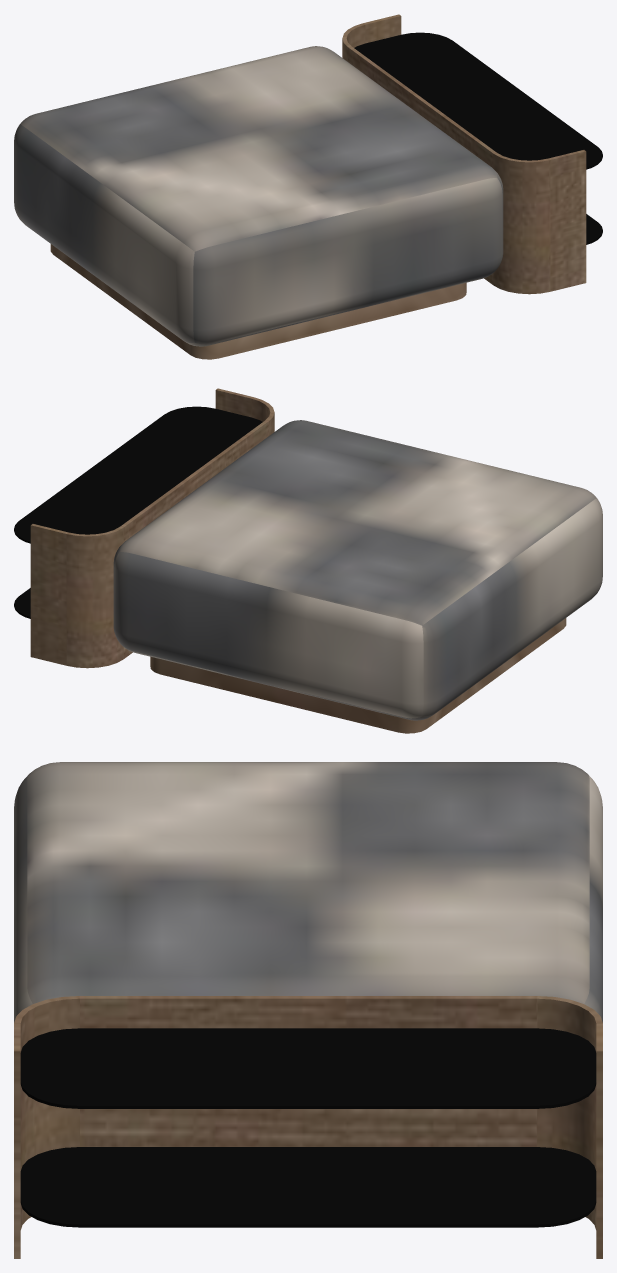
Rendered from Sofa Three.fbx.
The picture shows the model from 3 angles, top to bottom: view 1: azimuth 30°, elevation 25°; view 2: azimuth 150°, elevation 25°; view 3: azimuth 270°, elevation 25°; orthographic projection. The views are drawn at different scales.
Visible parts, largest first — view 1: Plane.005, Plane.054, Plane.055; view 2: Plane.005, Plane.054, Plane.055; view 3: Plane.005, Plane.055, Plane.054.
Boxes of the visible parts, left/top/right/bottom form: Plane.005: left=14, top=46, right=503, bottom=359; Plane.054: left=342, top=14, right=586, bottom=294; Plane.055: left=354, top=32, right=602, bottom=244; Plane.005: left=113, top=420, right=602, bottom=733; Plane.054: left=30, top=388, right=274, bottom=668; Plane.055: left=14, top=406, right=262, bottom=618; Plane.005: left=14, top=762, right=602, bottom=1022; Plane.055: left=20, top=1028, right=596, bottom=1227; Plane.054: left=14, top=996, right=602, bottom=1258.
Bounding box in the file's own units: 119 × 35 × 90.
Materials: 3 (3 with a texture image).
